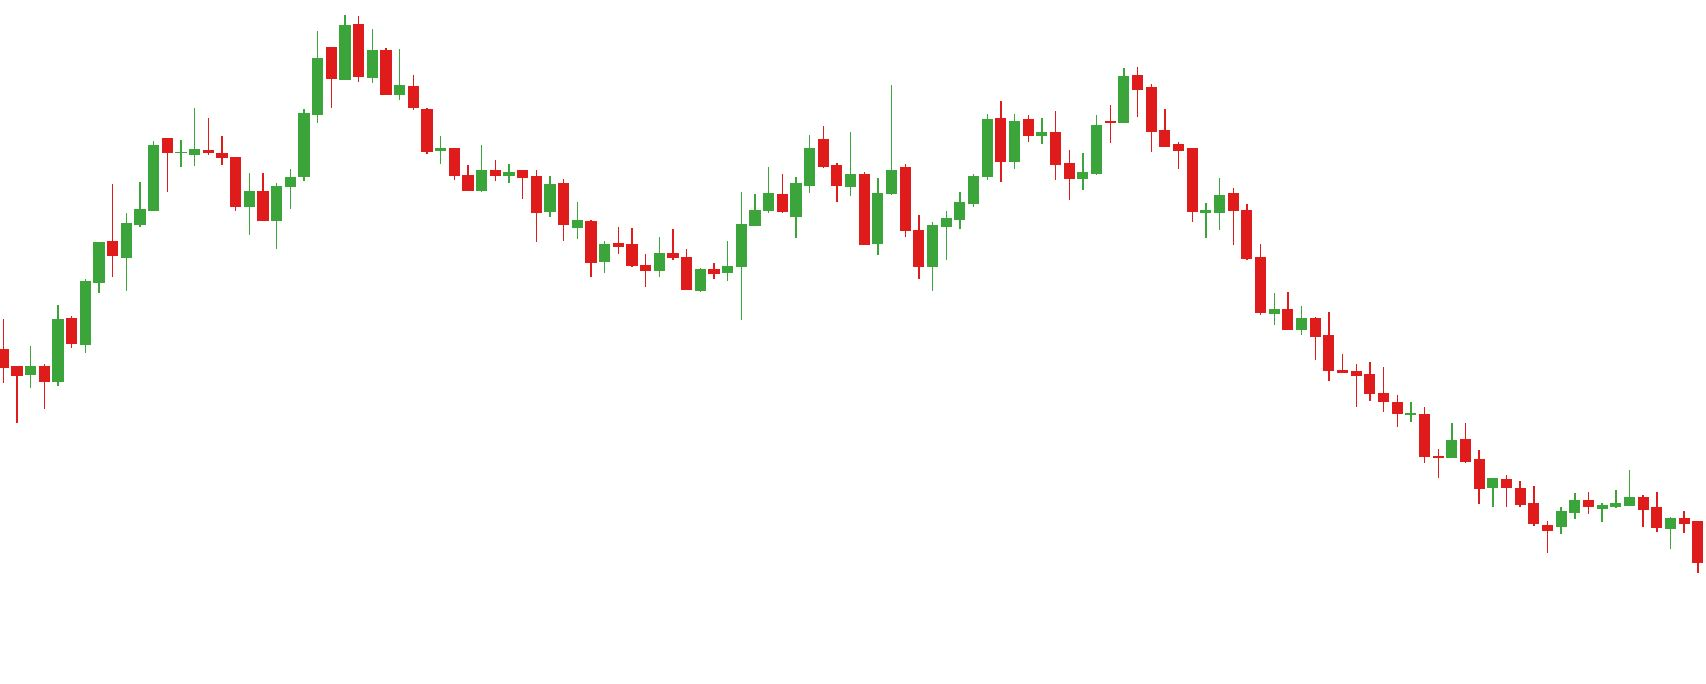buy: (857, 181, 939, 290)
